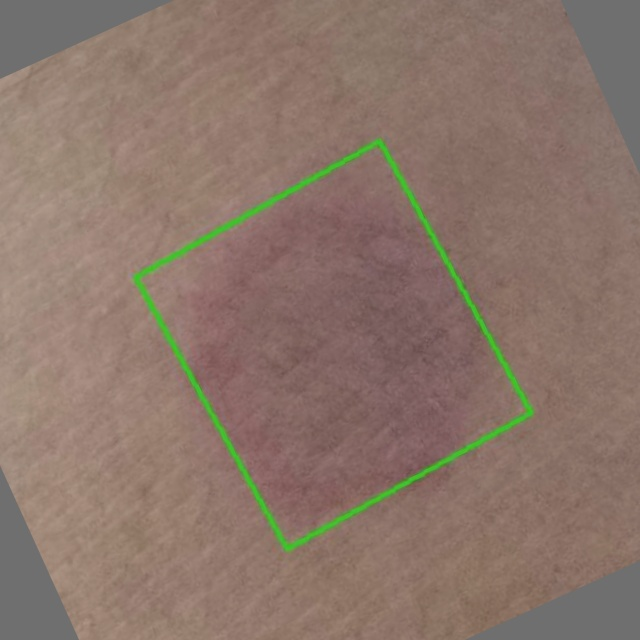Eczema: (135, 141, 531, 549)
